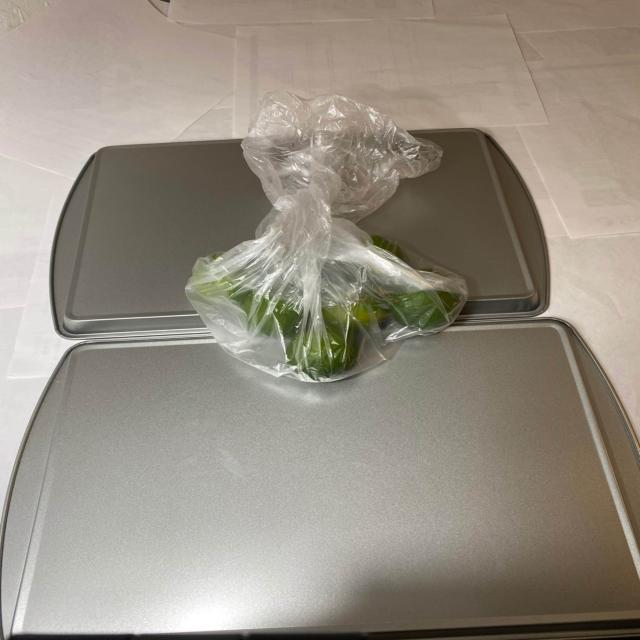lemon: (188, 239, 467, 381)
